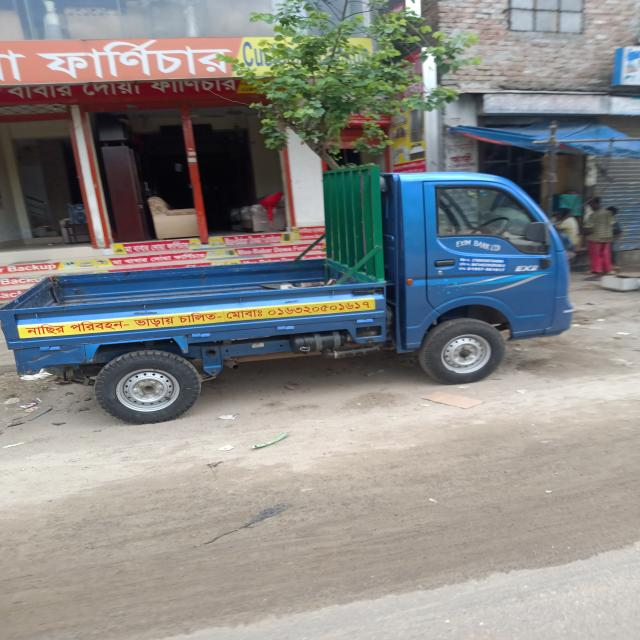truck: (0, 164, 574, 424)
